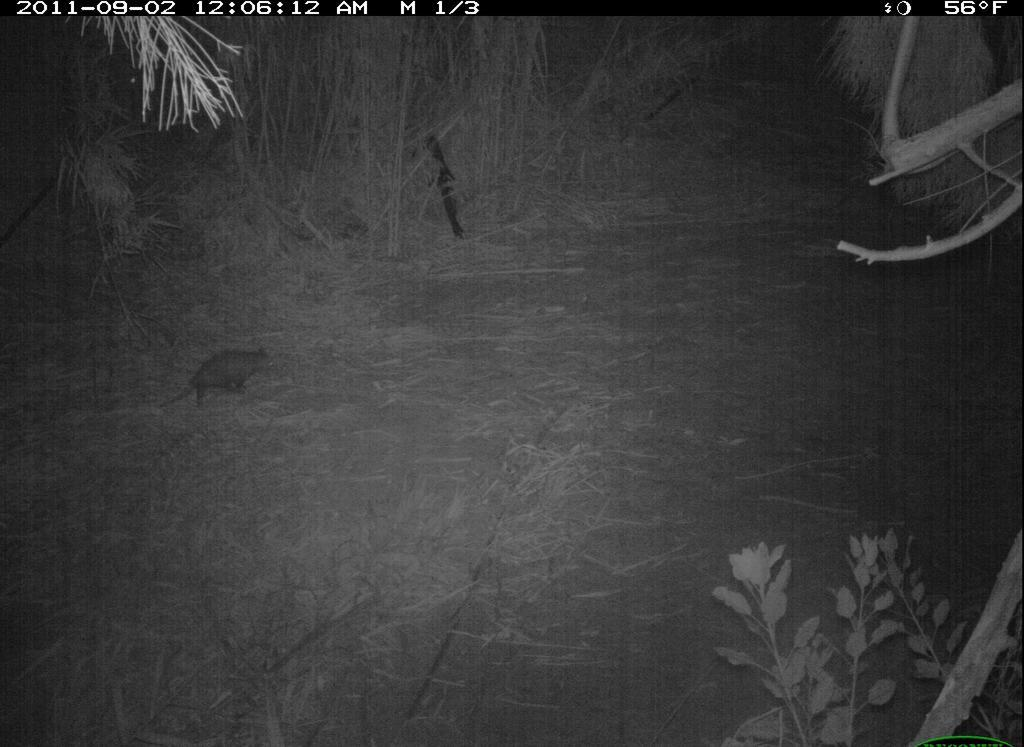opossum: (158, 342, 278, 418)
